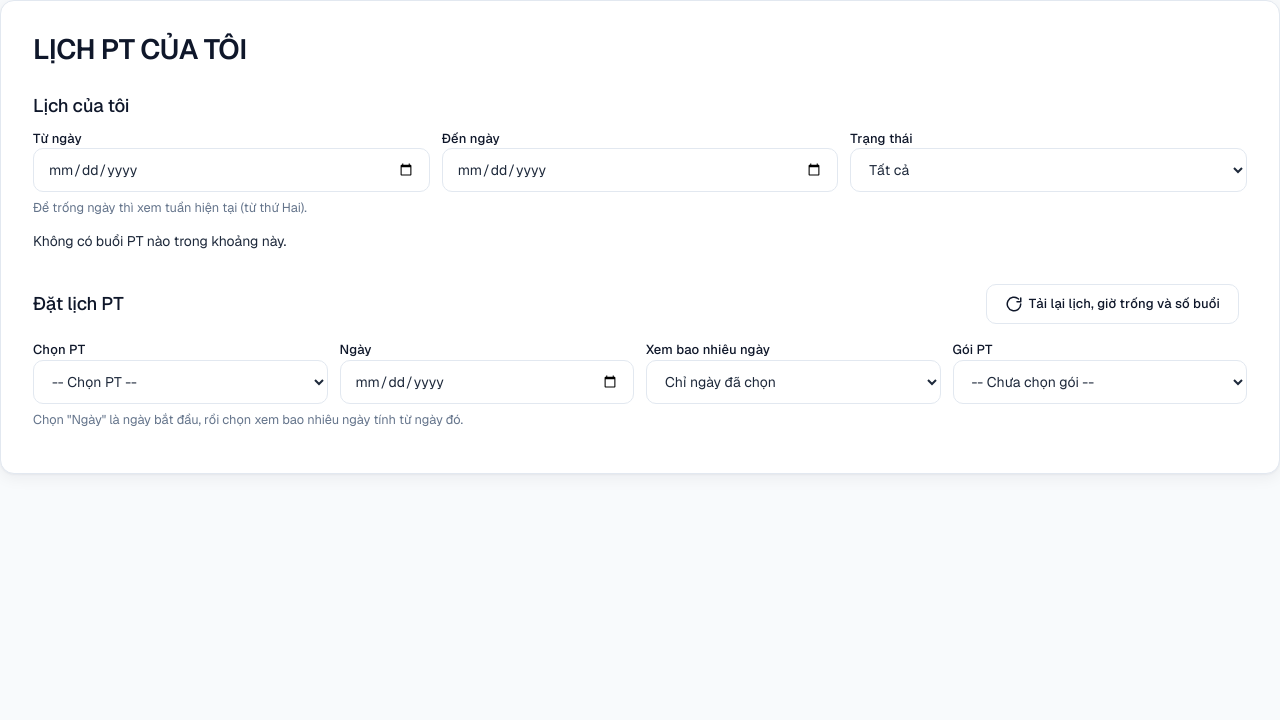
Test: US-27 bước 3: trang /member/pt-bookings › US-27-TC12: chọn PT và ngày, chưa chọn gói → gọi availability đúng ngày, slot bị khóa kèm "Chọn gói PT để đặt"
Step 1. Select "PT Trần Văn Bình" in the dropdown labelled "Chọn PT" → (180,382), box [33,360,328,404]
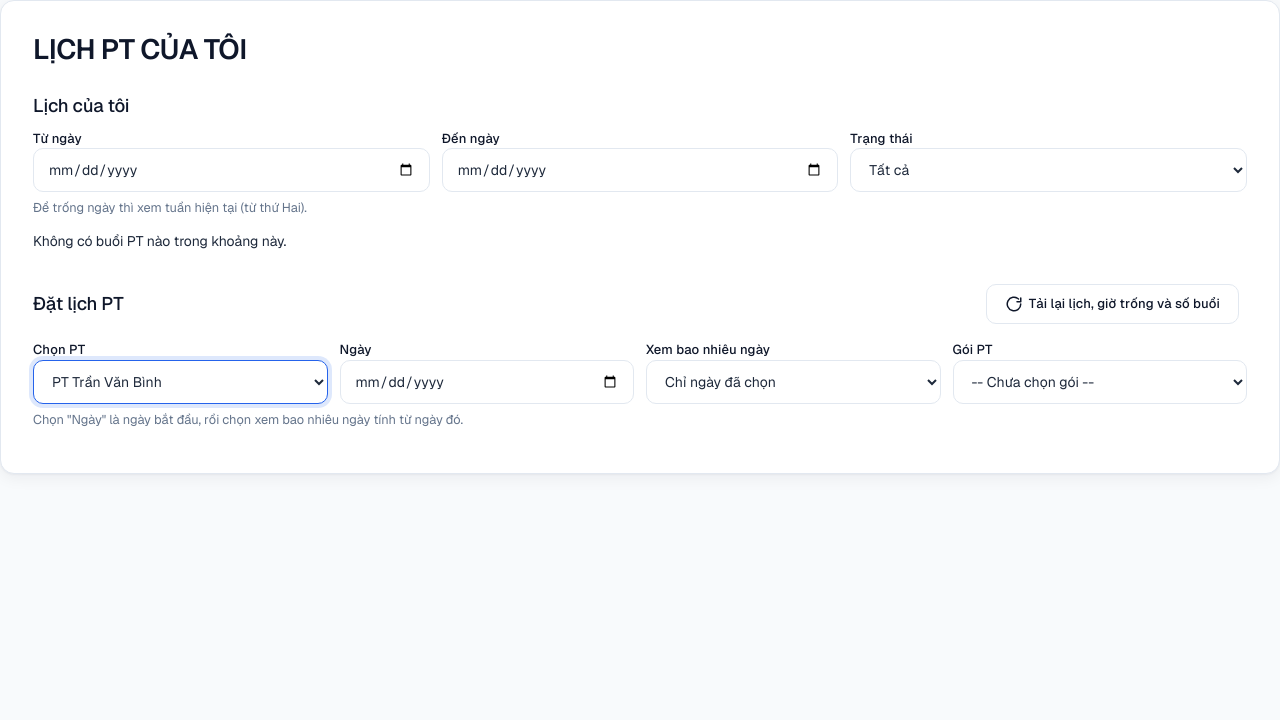
Step 2. Type "2026-11-25" into the date field labelled "Ngày" → (487,382), box [340,360,634,404]
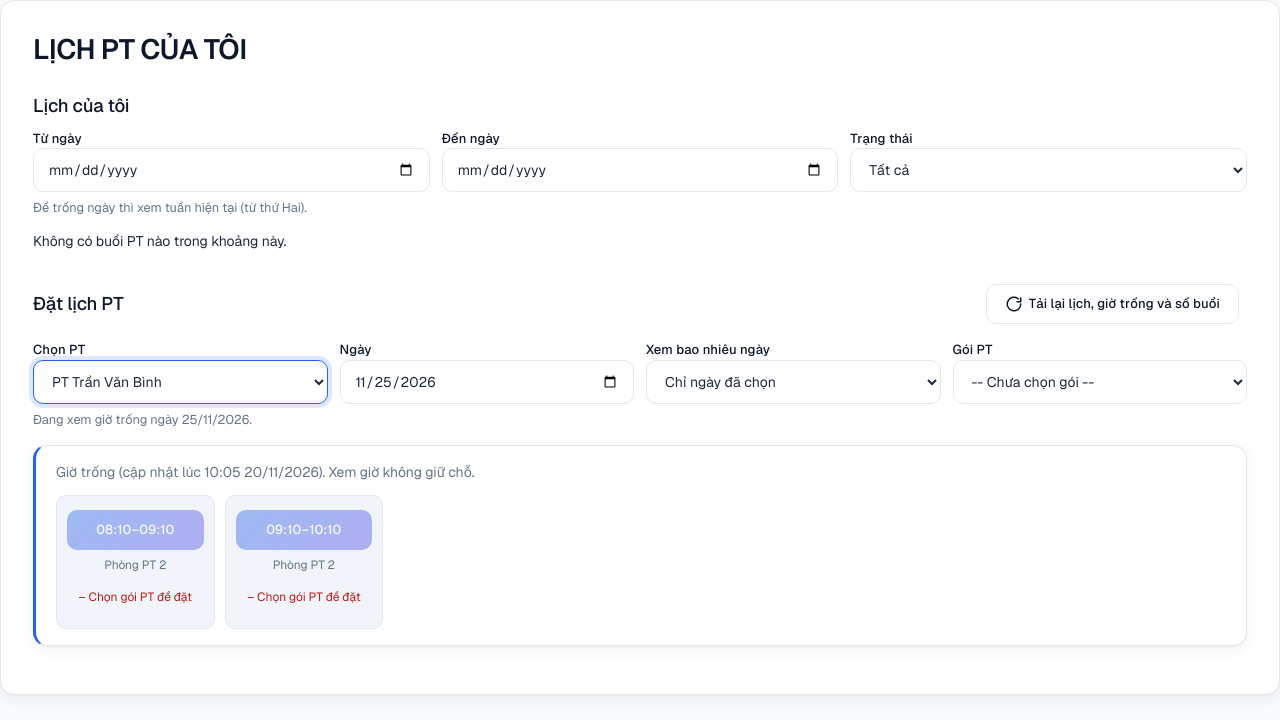
Result: the 1st text "– Chọn gói PT để đặt" is shown at [79,589,192,605]
